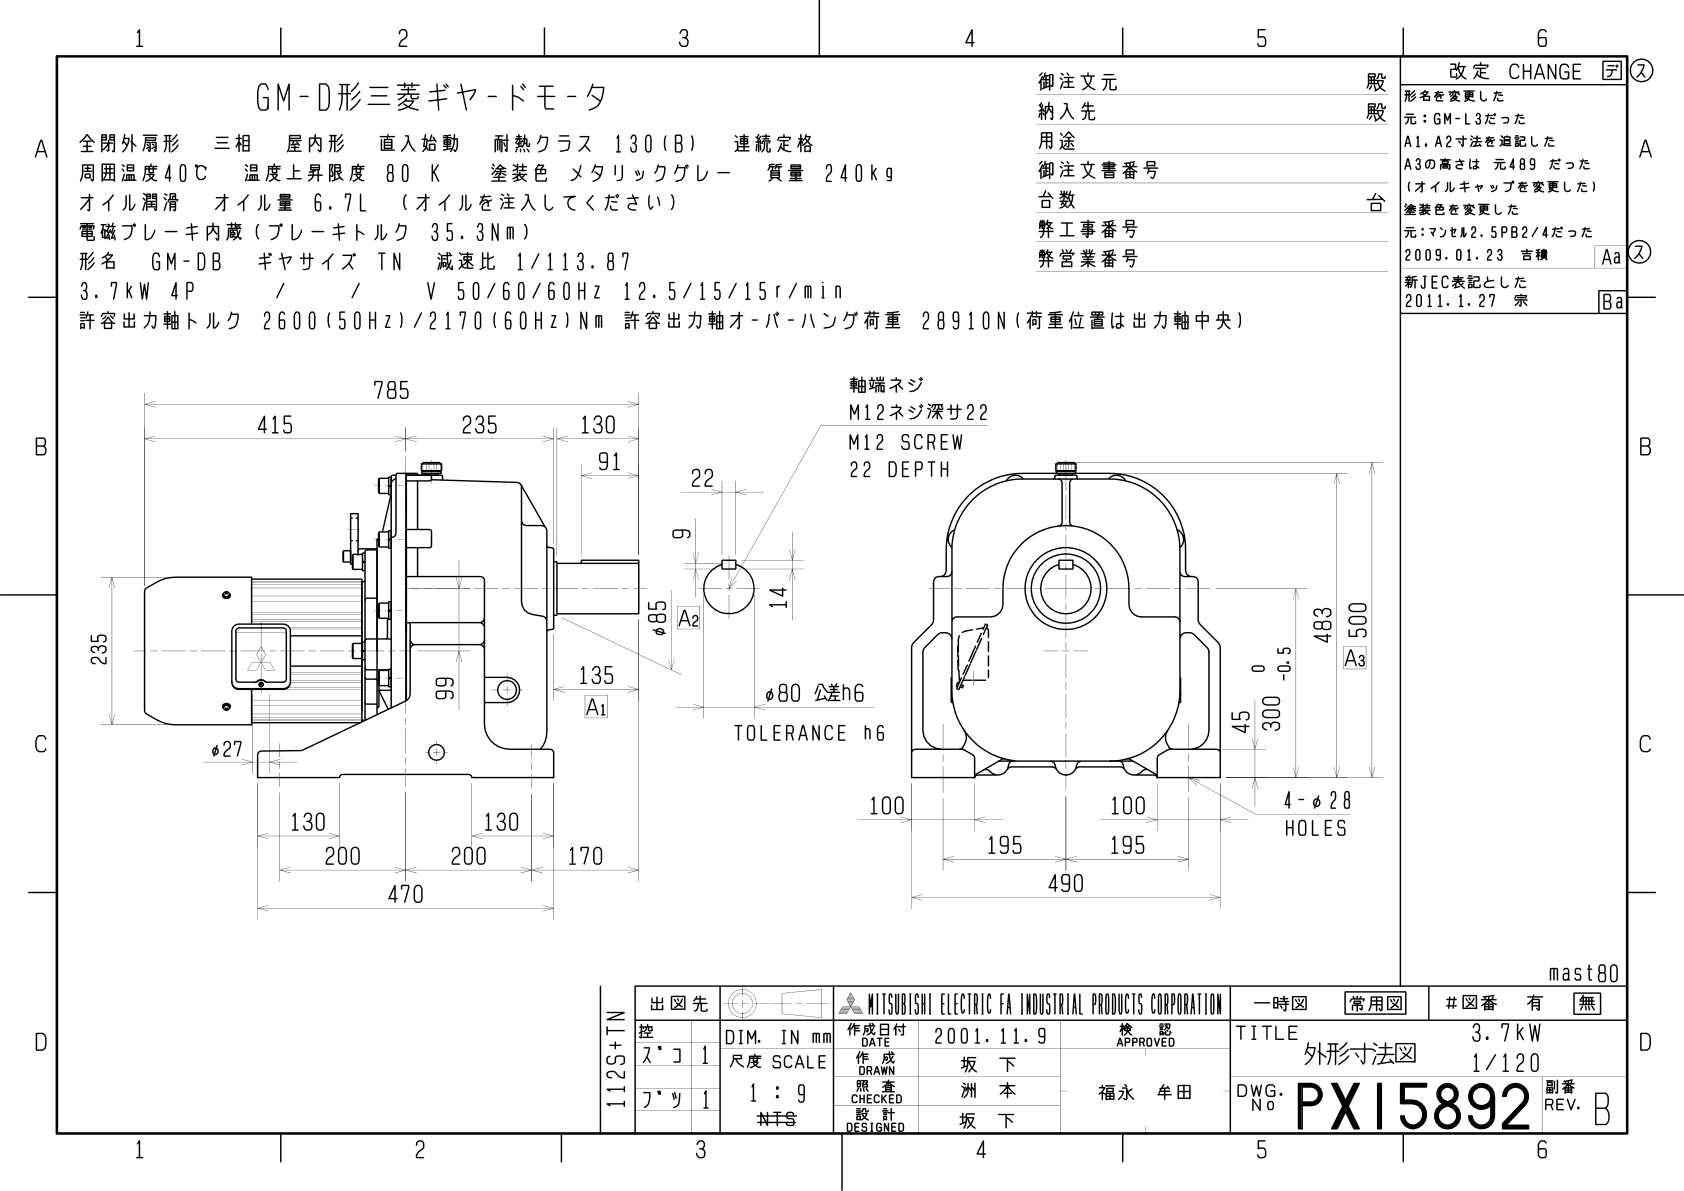GM_D_屋内＿三相_脚: (8, 4, 1684, 1191)
